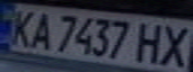3: (90, 16, 115, 58)
4: (72, 15, 96, 56)
7: (106, 17, 136, 61), (51, 11, 78, 54)
A: (24, 8, 57, 51)
H: (130, 19, 172, 64)
K: (3, 7, 42, 48)
X: (154, 21, 193, 68)
